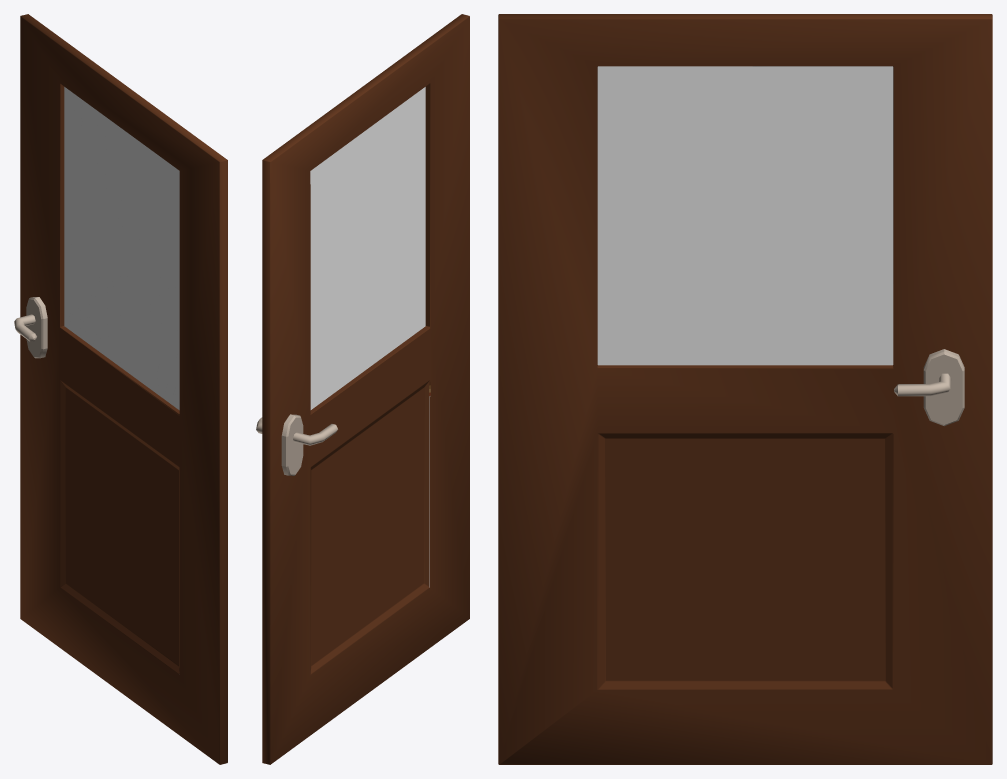
Rendered from door_0.fbx.
3 views of the same model, side by side, from view 1: azimuth 30°, elevation 25°; view 2: azimuth 150°, elevation 25°; view 3: azimuth 270°, elevation 25° (orthographic). The views are drawn at different scales.
Parts seen in each view (by area): view 1: Polygon_2, Polygon_3; view 2: Polygon_2, Polygon_3; view 3: Polygon_2, Polygon_3.
Boxes of the visible parts, box(x1,y1,x2,y2) form: Polygon_2: box(14, 14, 227, 764); Polygon_3: box(64, 87, 179, 410); Polygon_2: box(256, 14, 469, 764); Polygon_3: box(310, 87, 425, 409); Polygon_2: box(498, 14, 992, 764); Polygon_3: box(597, 66, 893, 365).
Size of the model in its own units: 23.46 by 200 by 120.
2 materials, 1 textured.
